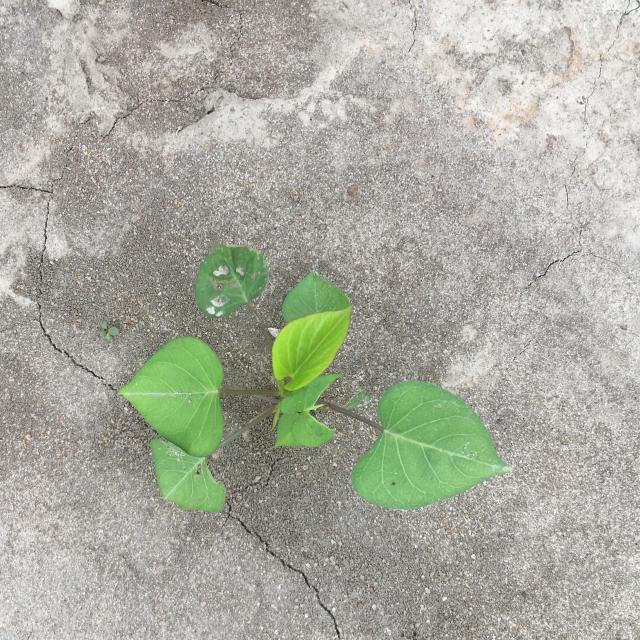Carpetweed: (100, 321, 119, 342)
MorningGlory: (117, 243, 512, 513)
